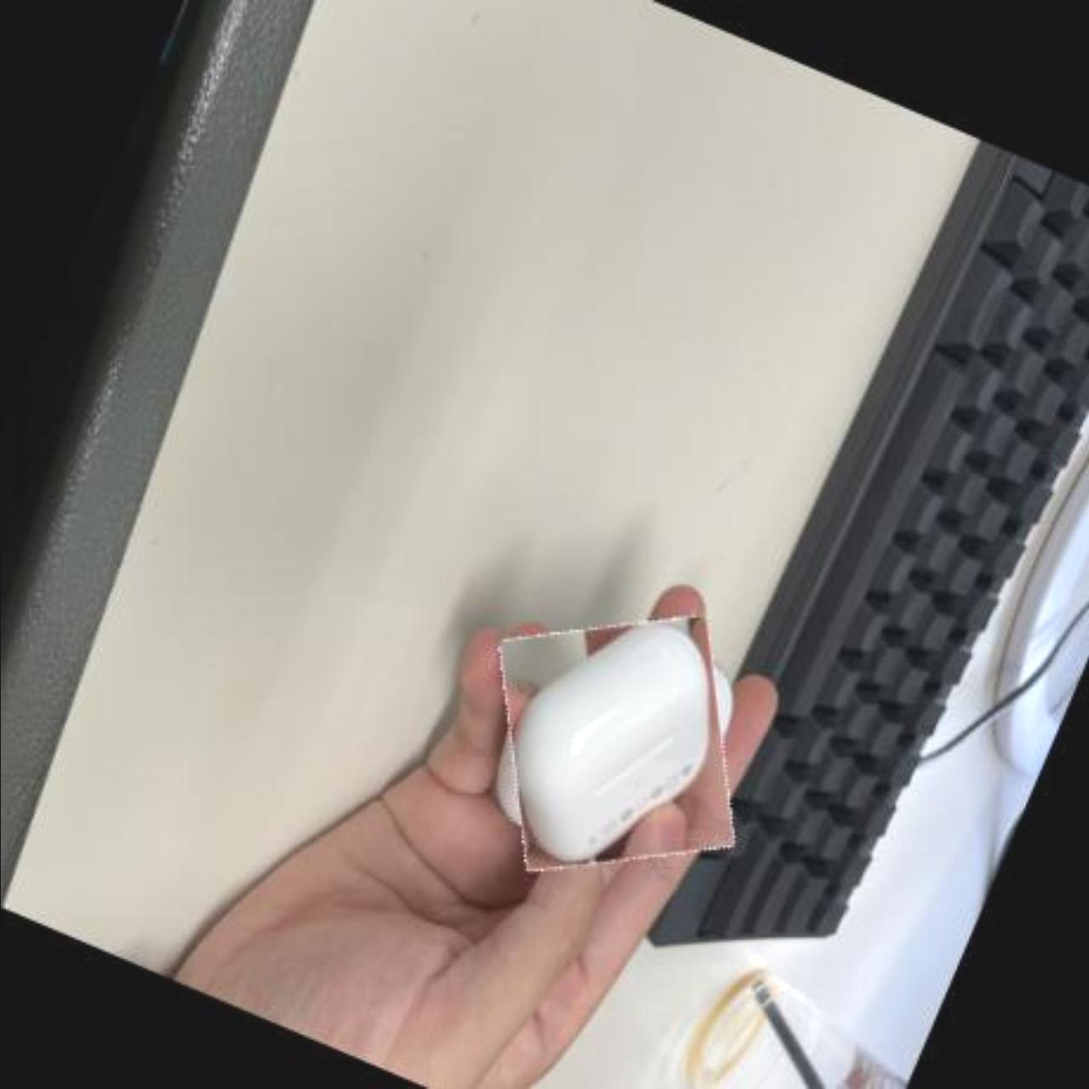AirPods: (449, 568, 785, 914)
